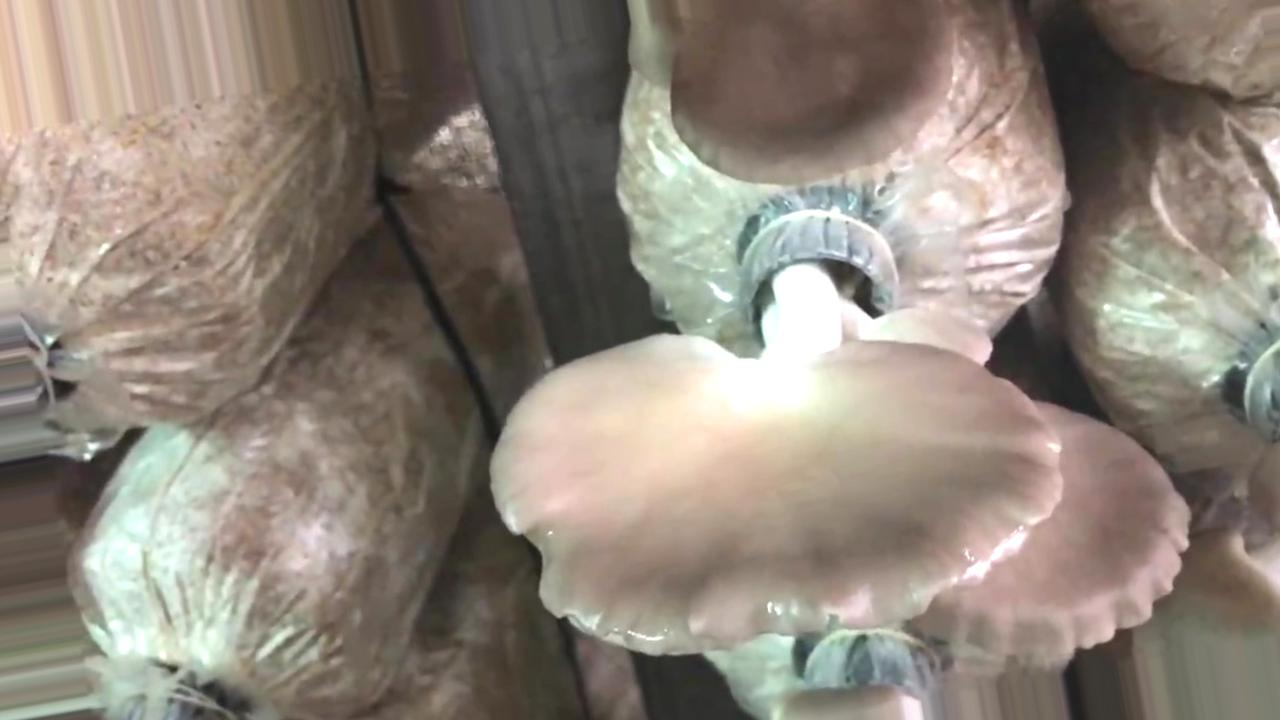nam: (489, 191, 1060, 655), (677, 30, 950, 182)
